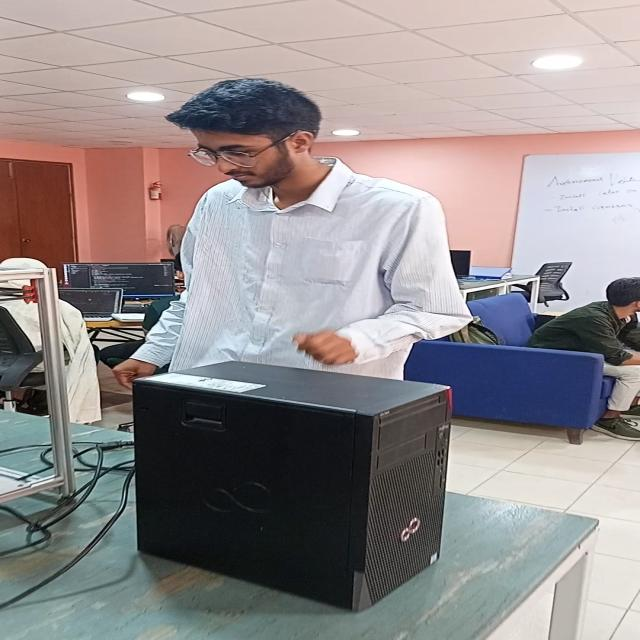dress: (112, 158, 478, 388)
glasses: (185, 146, 267, 164)
